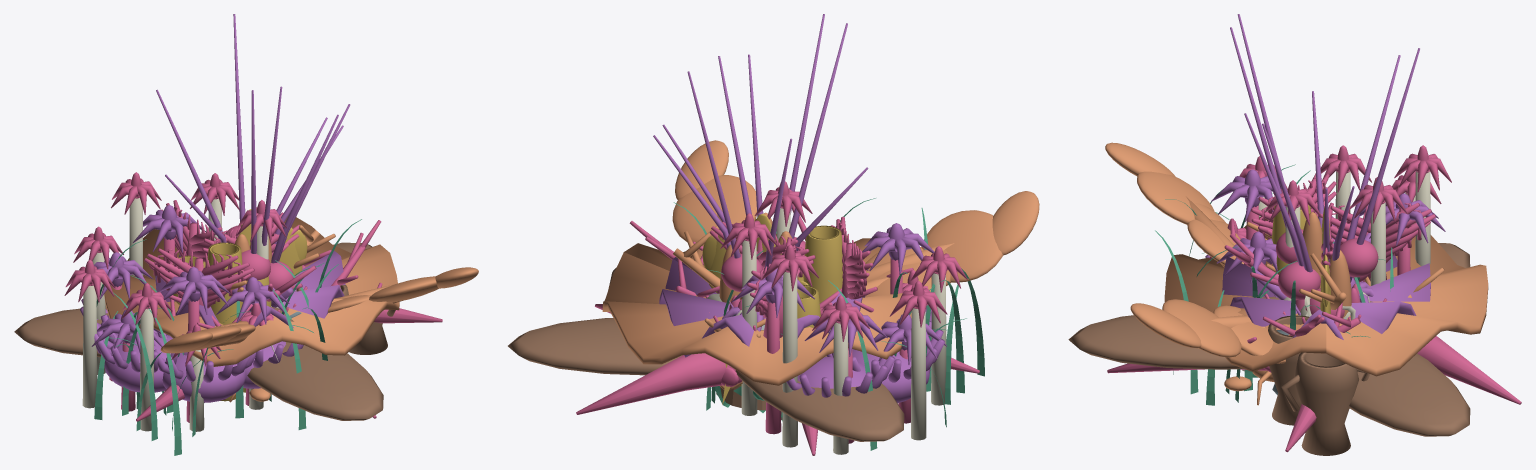
File: reef.glb
The picture shows the model from 3 angles, left to right: view 1: azimuth 30°, elevation 25°; view 2: azimuth 150°, elevation 25°; view 3: azimuth 270°, elevation 25°; orthographic projection. The views are drawn at different scales.
Visible parts, largest first — view 1: Tube_worm_cluster, Table_coral, Three-blade_wreck_propeller, Xenia-style_coral_clump, Anemone_carpet, Sea_whip_cluster, Seagrass_patch, Feather_duster_worms, Elkhorn_coral, Leather_coral, Bushy_soft_coral, Tall_tube_sponge_cluster (+5 smaller); view 2: Tube_worm_cluster, Table_coral, Three-blade_wreck_propeller, Elkhorn_coral, Xenia-style_coral_clump, Sea_whip_cluster, Five-arm_starfish, Anemone_carpet, Leather_coral, Seagrass_patch, Feather_duster_worms, Tall_tube_sponge_cluster (+5 smaller); view 3: Table_coral, Three-blade_wreck_propeller, Elkhorn_coral, Tube_worm_cluster, Amphora_pile, Sea_whip_cluster, Leather_coral, Xenia-style_coral_clump, Feather_duster_worms, Five-arm_starfish, Carnation_coral, Seagrass_patch (+6 smaller).
Part boxes in pixels (x1,y1,x2,y2): Tube_worm_cluster: [64, 172, 286, 431]; Table_coral: [103, 214, 399, 366]; Three-blade_wreck_propeller: [14, 242, 383, 420]; Xenia-style_coral_clump: [80, 205, 289, 422]; Anemone_carpet: [80, 299, 303, 402]; Sea_whip_cluster: [156, 14, 350, 263]; Seagrass_patch: [94, 219, 361, 455]; Feather_duster_worms: [144, 200, 299, 402]; Elkhorn_coral: [160, 267, 478, 353]; Leather_coral: [155, 251, 345, 327]; Bushy_soft_coral: [150, 220, 382, 399]; Tall_tube_sponge_cluster: [172, 242, 271, 401]; Tube_worm_cluster: [720, 181, 967, 454]; Table_coral: [602, 218, 911, 385]; Three-blade_wreck_propeller: [508, 318, 904, 441]; Elkhorn_coral: [672, 140, 1039, 297]; Xenia-style_coral_clump: [722, 223, 946, 443]; Sea_whip_cluster: [653, 14, 868, 269]; Five-arm_starfish: [576, 304, 979, 455]; Anemone_carpet: [786, 307, 944, 403]; Leather_coral: [659, 257, 865, 357]; Seagrass_patch: [673, 198, 984, 450]; Feather_duster_worms: [709, 216, 873, 420]; Tall_tube_sponge_cluster: [797, 225, 842, 329]; Table_coral: [1164, 217, 1488, 376]; Three-blade_wreck_propeller: [1068, 243, 1470, 436]; Elkhorn_coral: [1105, 142, 1285, 363]; Tube_worm_cluster: [1203, 145, 1451, 371]; Amphora_pile: [1268, 315, 1370, 455]; Sea_whip_cluster: [1230, 14, 1419, 282]; Leather_coral: [1222, 255, 1430, 339]; Xenia-style_coral_clump: [1211, 169, 1445, 302]; Feather_duster_worms: [1251, 173, 1435, 281]; Five-arm_starfish: [1107, 336, 1521, 452]; Carnation_coral: [1255, 229, 1378, 317]; Seagrass_patch: [1155, 164, 1393, 405].
Bounding box in the file's own units: 9.27 × 8.3 × 9.34.
